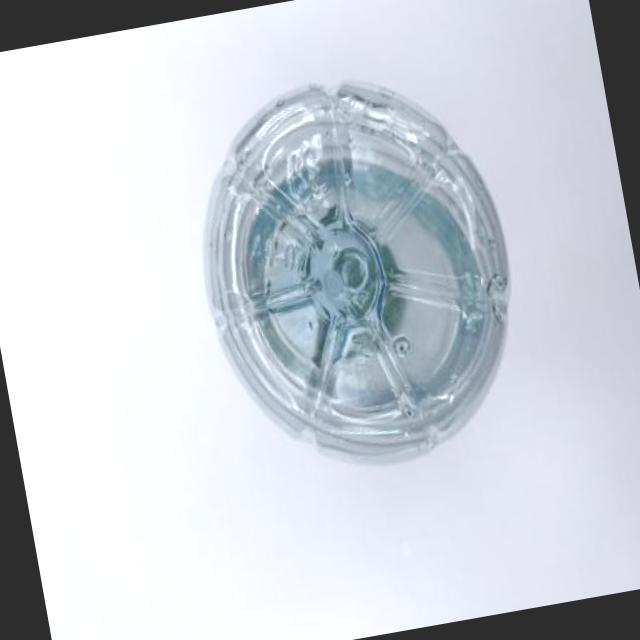Recycle: (177, 56, 540, 489)
